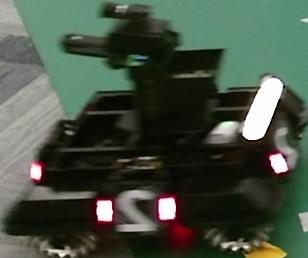armor_2: (96, 198, 176, 221)
left_2: (113, 187, 157, 234)
light: (242, 76, 284, 140)
